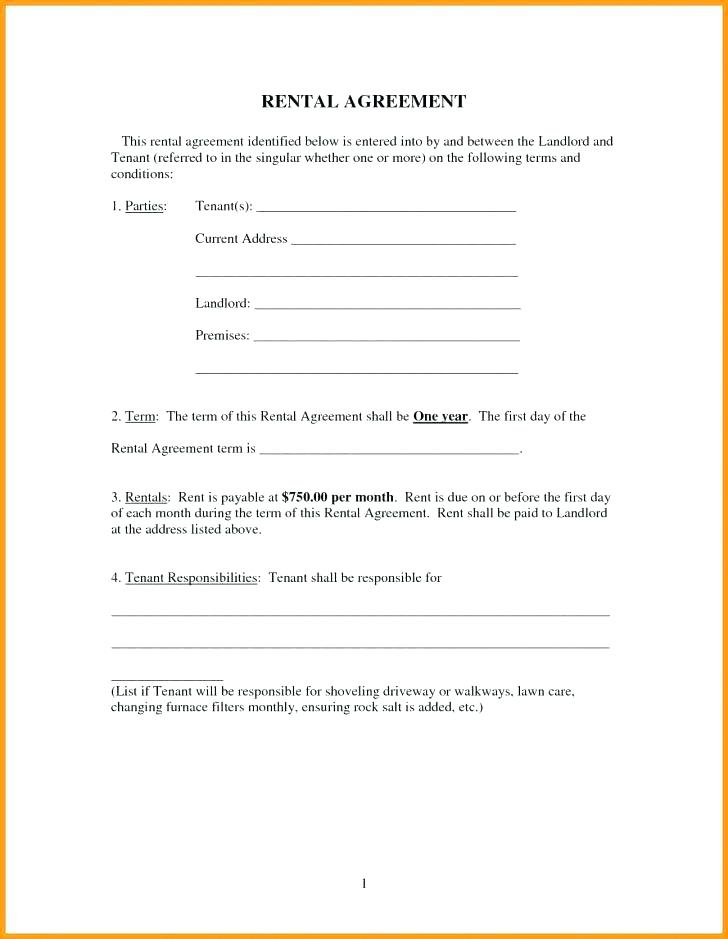textline: (108, 622, 611, 654), (109, 591, 610, 622), (188, 346, 524, 382), (192, 253, 522, 283), (254, 426, 529, 461), (252, 283, 526, 317), (253, 188, 521, 220), (254, 315, 524, 346), (292, 218, 521, 253), (109, 656, 226, 686)
